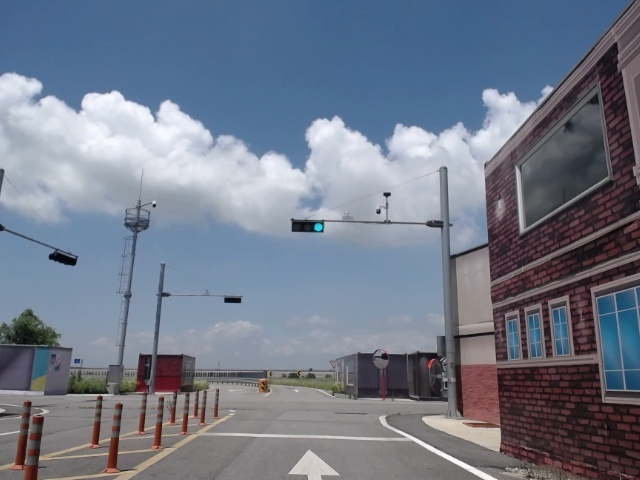green_3: (291, 222, 323, 233)
